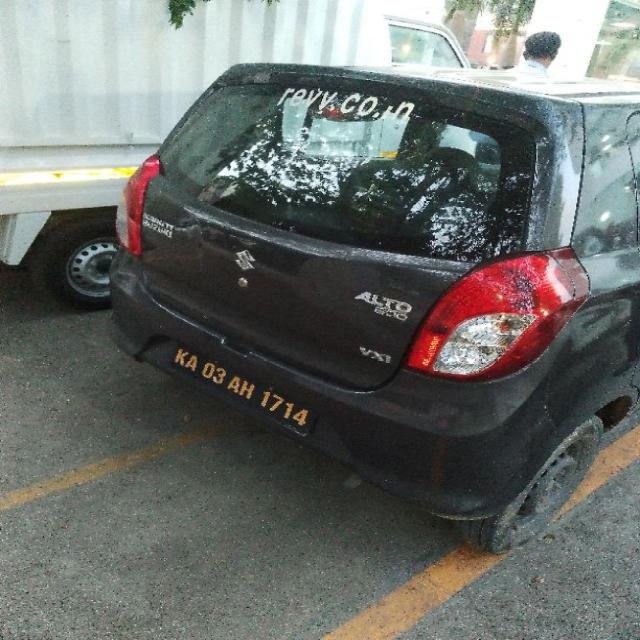license_plate: (163, 342, 320, 438)
